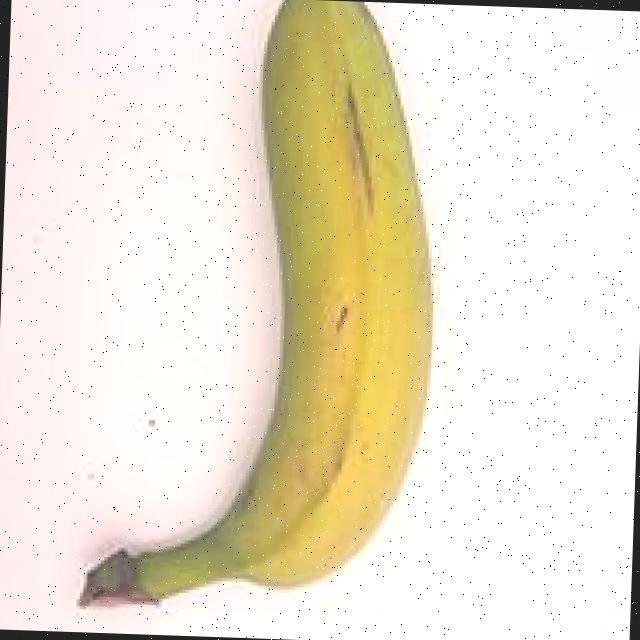Unripe: (18, 0, 502, 639)
